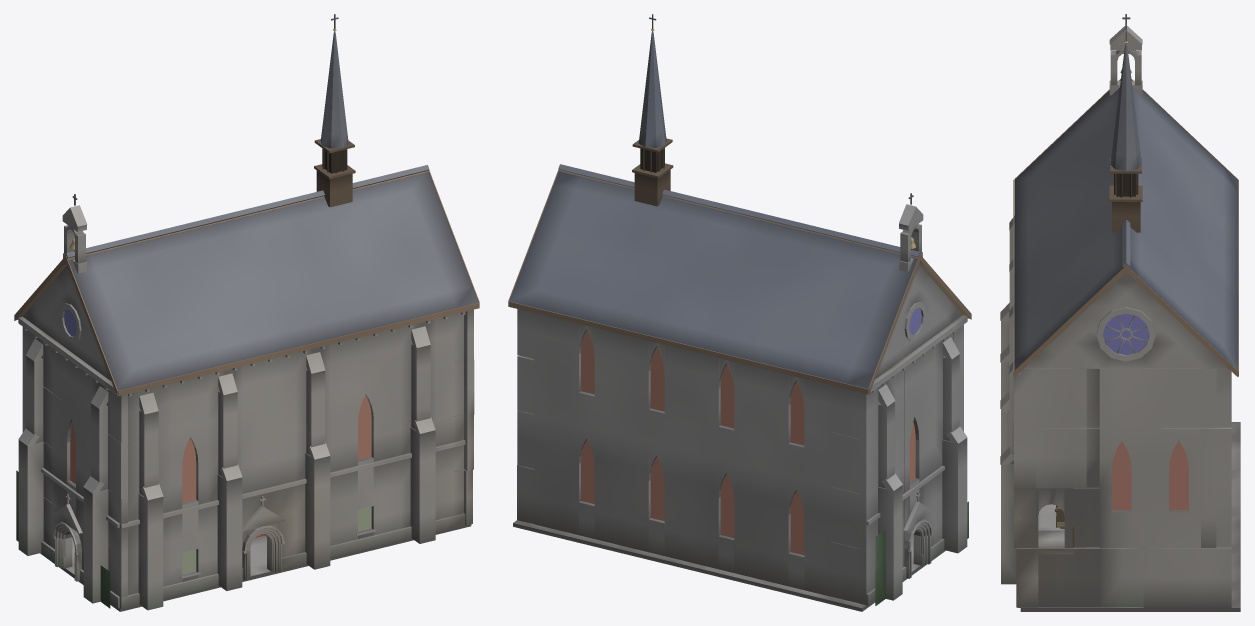
Rendered from chapel.glb.
3 renders of one model, left to right at view 1: azimuth 30°, elevation 25°; view 2: azimuth 150°, elevation 25°; view 3: azimuth 270°, elevation 25°, orthographic. The views are drawn at different scales.
Visible parts, largest first — view 1: roof_10x21.001, gable_chapel_west.001, buttress_chapel.004, buttress_chapel.001, buttress_chapel.002, buttress_chapel.003, buttress_chapel.005, buttress_chapel.006, fleche.001, wall_ashlar_tall_lancet.010, wall_ashlar_tall_lancet.009, wall_ashlar_4.040 (+32 smaller); view 2: roof_10x21.001, gable_chapel_west.001, buttress_chapel.006, buttress_chapel.005, fleche.001, wall_ashlar_tall_lancet.007, wall_ashlar_tall_lancet.001, wall_ashlar_tall_lancet.005, wall_ashlar_tall_lancet.003, wall_ashlar_tall_lancet.008, wall_ashlar_tall_lancet.004, wall_ashlar_tall_lancet.002 (+47 smaller); view 3: roof_10x21.001, gable_chapel_east.001, wall_ashlar_4.042, wall_ashlar_4.043, wall_ashlar_tall_lancet.013, fleche.001, wall_ashlar_tall_lancet.012, wall_ashlar_2.052, wall_ashlar_2.051, wall_ashlar_2.053, wall_ashlar_2.054, buttress_chapel.004 (+34 smaller).
Boxes of the visible parts, <box> form: roof_10x21.001: <box>14,165,479,396</box>; gable_chapel_west.001: <box>23,194,110,380</box>; buttress_chapel.004: <box>410,326,435,543</box>; buttress_chapel.001: <box>138,392,163,610</box>; buttress_chapel.002: <box>217,373,242,590</box>; buttress_chapel.003: <box>305,352,330,569</box>; buttress_chapel.005: <box>18,338,43,555</box>; buttress_chapel.006: <box>83,386,108,603</box>; fleche.001: <box>314,14,355,207</box>; wall_ashlar_tall_lancet.010: <box>348,379,383,497</box>; wall_ashlar_tall_lancet.009: <box>172,421,207,540</box>; wall_ashlar_4.040: <box>383,361,453,433</box>; roof_10x21.001: <box>508,164,971,394</box>; gable_chapel_west.001: <box>875,193,962,379</box>; buttress_chapel.006: <box>942,337,967,553</box>; buttress_chapel.005: <box>878,384,902,600</box>; fleche.001: <box>632,14,673,206</box>; wall_ashlar_tall_lancet.007: <box>569,423,604,541</box>; wall_ashlar_tall_lancet.001: <box>779,474,813,592</box>; wall_ashlar_tall_lancet.005: <box>639,440,673,558</box>; wall_ashlar_tall_lancet.003: <box>709,457,743,575</box>; wall_ashlar_tall_lancet.008: <box>569,321,604,431</box>; wall_ashlar_tall_lancet.004: <box>709,355,743,465</box>; wall_ashlar_tall_lancet.002: <box>779,373,813,482</box>; roof_10x21.001: <box>1013,79,1238,376</box>; gable_chapel_east.001: <box>1024,272,1227,368</box>; wall_ashlar_4.042: <box>1143,547,1231,607</box>; wall_ashlar_4.043: <box>1056,547,1143,607</box>; wall_ashlar_tall_lancet.013: <box>1099,428,1143,548</box>; fleche.001: <box>1109,25,1142,232</box>; wall_ashlar_tall_lancet.012: <box>1157,428,1200,547</box>; wall_ashlar_2.052: <box>1099,368,1143,428</box>; wall_ashlar_2.051: <box>1161,368,1200,427</box>; wall_ashlar_2.053: <box>1036,428,1073,488</box>; wall_ashlar_2.054: <box>1036,368,1073,428</box>; buttress_chapel.004: <box>1000,360,1016,584</box>.
Bounding box in the file's own units: 21.25 × 27.1 × 10.92.
